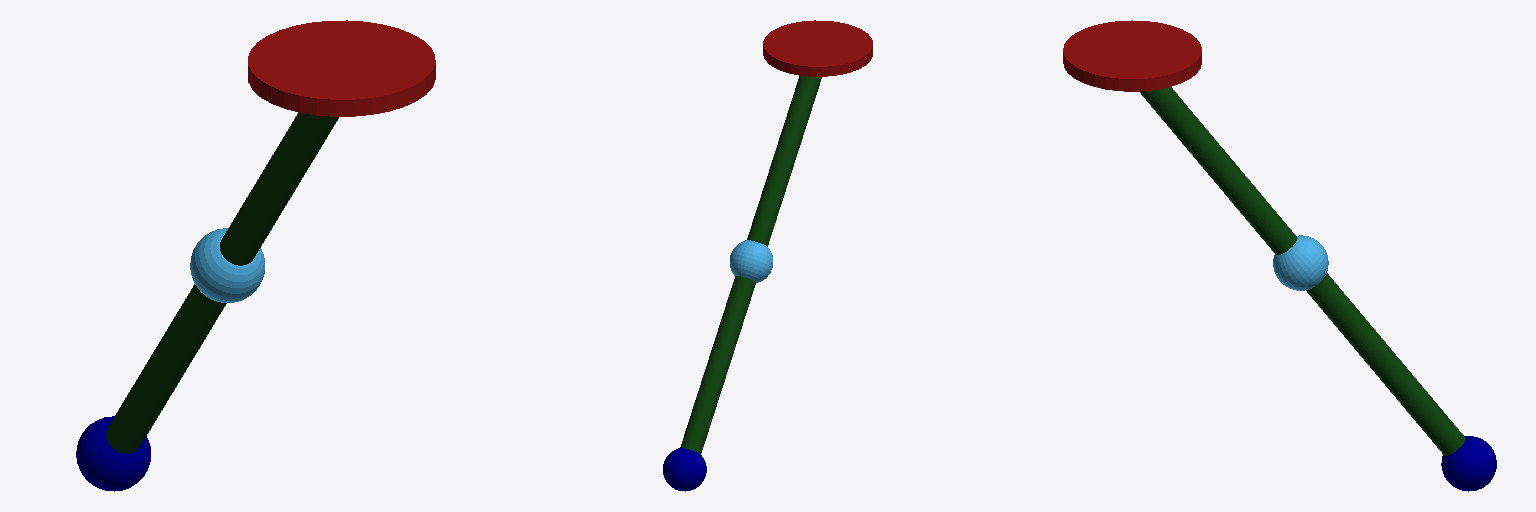
URDF robot description (RRBot_description):
<?xml version="1.0" ?>

<robot name="RRBot_description">
    <link name="base_link">
        <inertial>
            <origin xyz="0.0 0.0 0.0" rpy="0 0 0" />
            <mass value="1" />
            <inertia ixx="0.1" iyy="0.1" izz="0.1" ixy="0" ixz="0" iyz="0" />
        </inertial>
        <visual>
            <origin xyz="0.0 0.0 0.025" rpy="0 0 0" />
            <geometry>
                <cylinder radius="0.25" length="0.05"/>
            </geometry>
            <material name="material_red_custom" >
                <color rgba="0.6 0.1 0.1 1.0" />
            </material>   
        </visual>
    </link>
    <link name="link0">
        <inertial>
            <origin xyz="0.0 0.0 -1.0" rpy="0 0 0" />
            <mass value="1" />
            <inertia ixx="0.1" iyy="0.1" izz="0.1" ixy="0" ixz="0" iyz="0" />
        </inertial>
        <visual>
            <origin xyz="0.0 0.0 -1.0" rpy="0 0 0" />
            <geometry>
                <sphere radius="0.1" />
            </geometry>
        </visual>
        <visual>
            <origin xyz="0.0 0.0 -0.5" rpy="0 0 0" />
            <geometry>
                <cylinder radius="0.05" length="1.0" />
            </geometry>
            <material name="material_green_custom" >
                <color rgba="0.1 0.3 0.1 1.0" />
            </material>            
        </visual>
    </link>
    <link name="link1">
        <inertial>
            <origin xyz="0.0 0.0 -1.0" rpy="0 0 0" />
            <mass value="1" />
            <inertia ixx="0.1" iyy="0.1" izz="0.1" ixy="0" ixz="0" iyz="0" />
        </inertial>
        <visual>
            <origin xyz="0.0 0.0 -1.0" rpy="0 0 0" />
            <geometry>
                <sphere radius="0.1" />
            </geometry>
            <material name="material_blue">
                <color rgba="0.0 0.0 0.6 1.0" />
            </material>
        </visual>
        <visual>
            <origin xyz="0.0 0.0 -0.5" rpy="0 0 0" />
            <geometry>
                <cylinder radius="0.05" length="1.0" />
            </geometry>
            <material name="material_green_custom" >
                <color rgba="0.1 0.3 0.1 1.0" />
            </material> 
        </visual>
    </link>
    
    <joint name="j0" type="revolute">
        <parent link="base_link" />
        <child link="link0" />
        <origin xyz="0.000000 0.000000 0.000000" rpy="-0.000000 0.000000 -0.000000" />
        <axis xyz="1 0 0" />
        <limit lower="0.3" upper="1.0" effort="176" velocity="1.7104" />
        <!-- this is natural robot damping -->
        <dynamics damping="0.8" /> 
        <calibration rising="0.5" />
    </joint>
    <joint name="j1" type="revolute">
        <parent link="link0" />
        <child link="link1" />
        <origin xyz="0.000000 0.000000 -1.000000" rpy="-0.000000 0.000000 -0.000000" />
        <axis xyz="1 0 0" />
        <limit lower="-0.1" upper="1.0" effort="176" velocity="1.7104" />
        <!-- this is natural robot damping -->
        <dynamics damping="0.8" />
        <calibration rising="0.8" />
    </joint>
    
</robot>

--- Render facts (derived) ---
3 views of the same robot in one strip: view 1: azimuth 30°, elevation 25°; view 2: azimuth 150°, elevation 25°; view 3: azimuth 270°, elevation 25° (orthographic).
Robot: RRBot_description — 3 links, 2 joints (2 revolute); root link base_link; default pose: all joints at 0 but 1 set to mid-range because 0 is outside their limits (j0 = 0.65).
Links seen in each view (by area): view 1: base_link, link1, link0; view 2: link1, link0, base_link; view 3: link1, base_link, link0.
Boxes of the visible links, x1,y1,x2,y2 form: base_link: (248, 20, 435, 116); link1: (76, 284, 226, 491); link0: (190, 113, 338, 302); link1: (663, 276, 755, 491); link0: (730, 76, 821, 282); base_link: (763, 20, 872, 76); link1: (1306, 273, 1496, 491); base_link: (1063, 20, 1201, 91); link0: (1140, 87, 1328, 290).
Bounding box of the posed robot: 0.5 × 1.56 × 1.74 m (x, y, z).
Geometry: primitives only (box / cylinder / sphere), no mesh files.